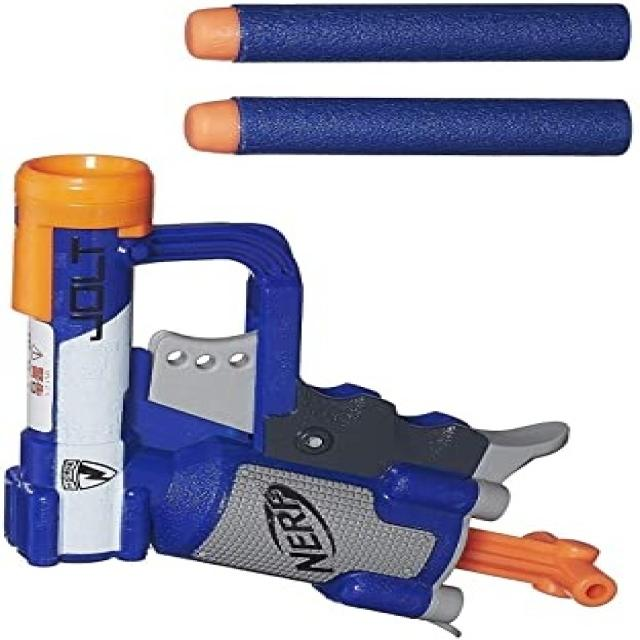Nerf gun: (0, 148, 630, 636)
